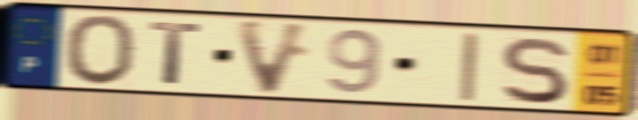9: (324, 26, 386, 98)
I: (456, 30, 482, 104)
O: (62, 12, 140, 89)
S: (496, 34, 572, 106)
T: (146, 19, 207, 88)
V: (231, 16, 316, 98)
